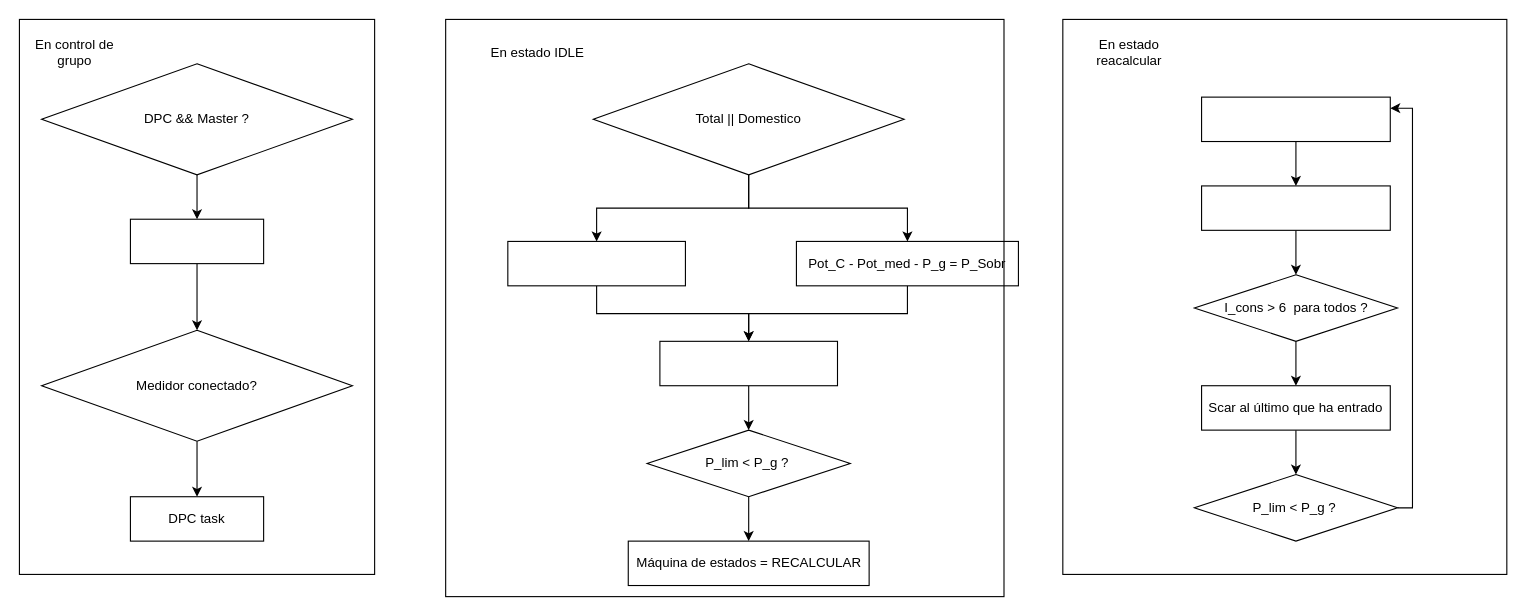
Image size: 1526x616. Some labels were removed from this diagram. Here are the shapes that lost their labels. From the top down, the box of each, then its label:
(1200, 96, 1390, 142): Calcular potencia de grupo
(1200, 185, 1390, 230): Calcular consignas par todos
(129, 218, 264, 264): Buscar medidor
(507, 240, 685, 286): Pot_C - Pot_med = P_Sobr
(659, 340, 837, 386): P_lim = P_g + P_sobr
